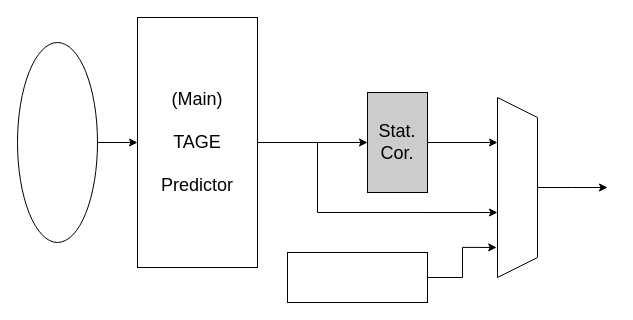
Some shapes in this 633 by 320 pixel diagram are drawn without their labels. The box of each missing label's shape, as (x1, y1, x2, y2) in pixels:
Loop Predictor: (286, 252, 428, 302)
PC Global history: (16, 42, 98, 242)
